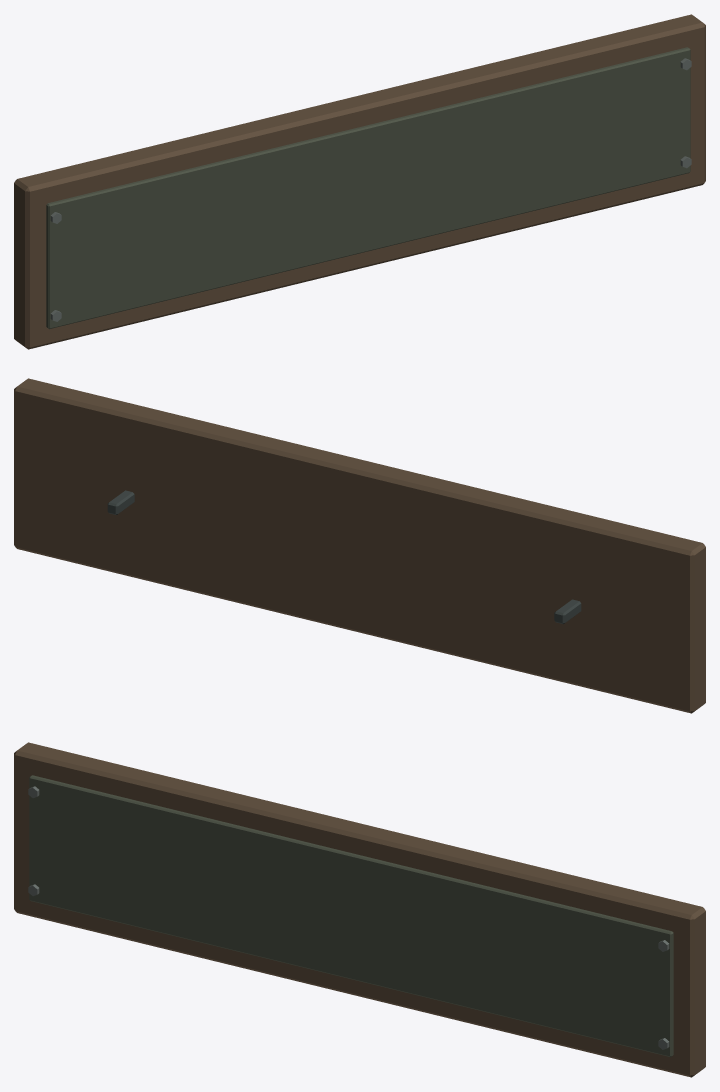
Rendered from ShopSign01.fbx.
The picture shows the model from 3 angles, top to bottom: view 1: azimuth 30°, elevation 25°; view 2: azimuth 150°, elevation 25°; view 3: azimuth 330°, elevation 25°; orthographic projection.
Visible parts, largest first — view 1: Painted_Face, Sign_Frame; view 2: Sign_Frame; view 3: Painted_Face, Sign_Frame.
Part boxes in pixels (<box>): Painted_Face: <box>46,47,690,329</box>; Sign_Frame: <box>14,14,705,349</box>; Sign_Frame: <box>14,378,705,713</box>; Painted_Face: <box>29,775,673,1057</box>; Sign_Frame: <box>14,742,705,1077</box>.
Bounding box in the file's own units: 320 × 73 × 29.9.
